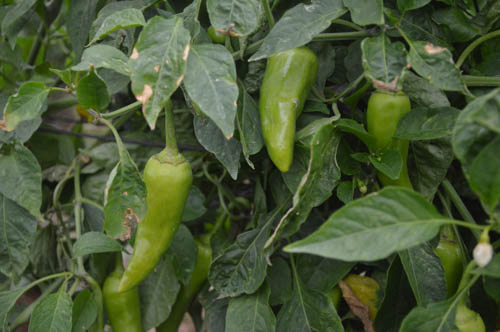ChiliPepper: (121, 157, 190, 290), (261, 49, 313, 178), (364, 89, 413, 201), (427, 238, 462, 303), (104, 273, 140, 332)
